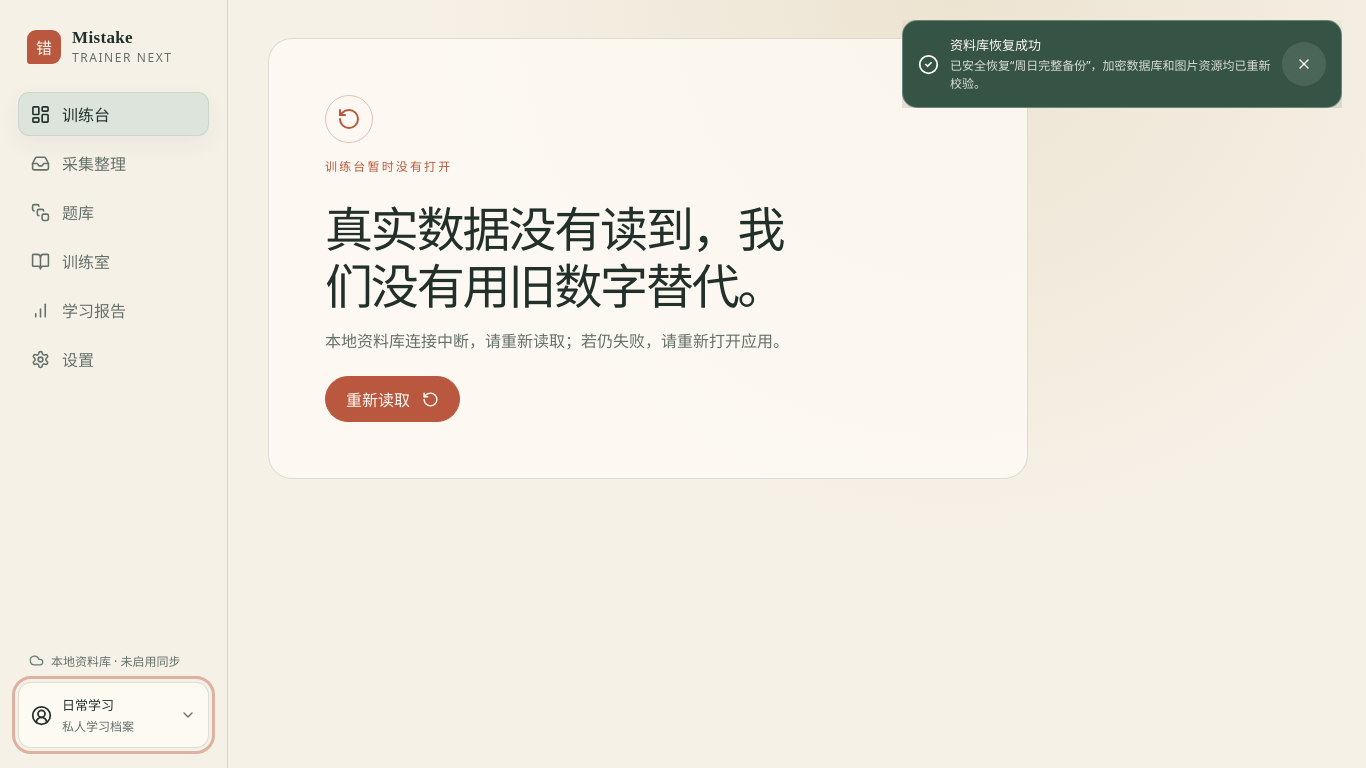
Test case: App profile orchestration › shows and dismisses the one-time result after a successful restore restart
This screenshot has width=1366, height=768.
Expected: the text "资料库恢复成功" is shown, [950,36,1041,54]
Expected: the text "已安全恢复“周日完整备份”，加密数据库和图片资源均已重新校验。" is shown, [950,57,1271,93]
Step 1. Click the button named "关闭恢复结果通知" → (1304, 64), box [1282,42,1326,86]
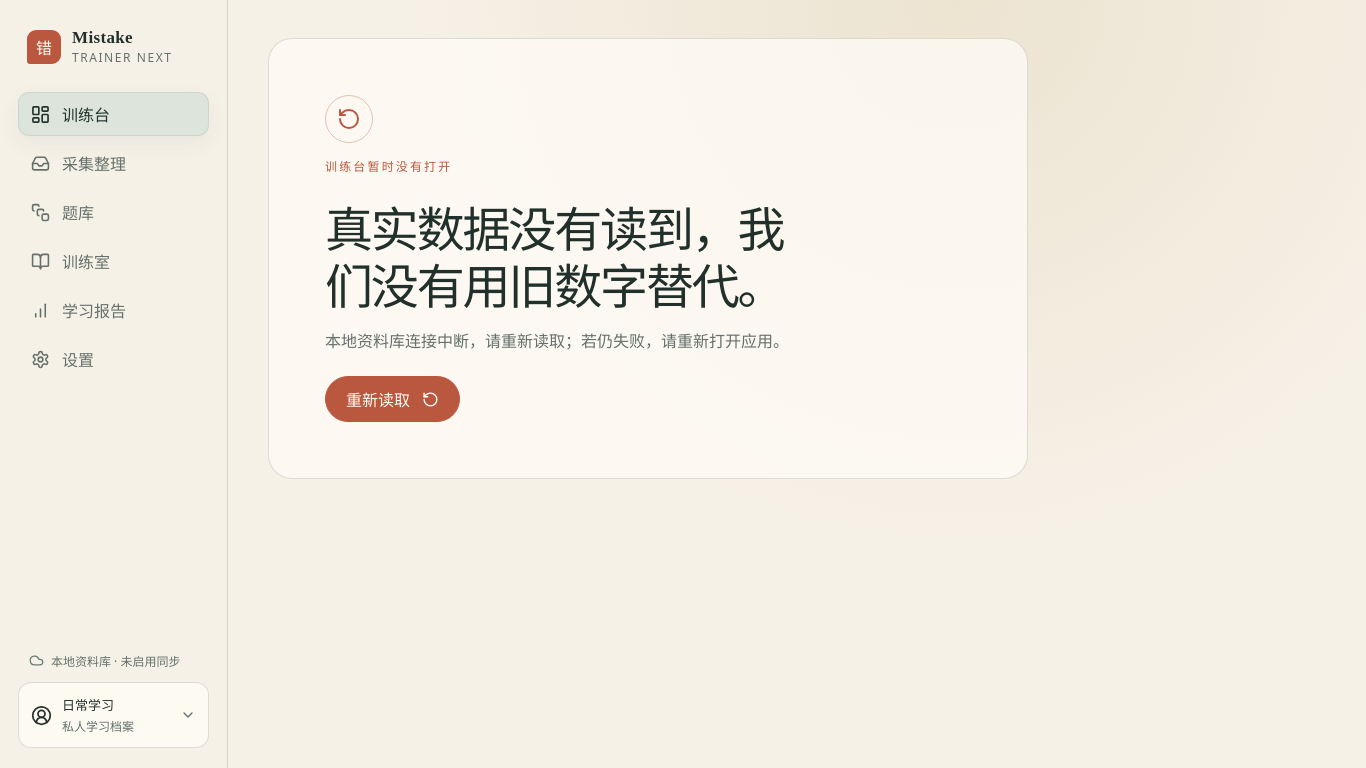
Result: the text "资料库恢复成功" is gone
